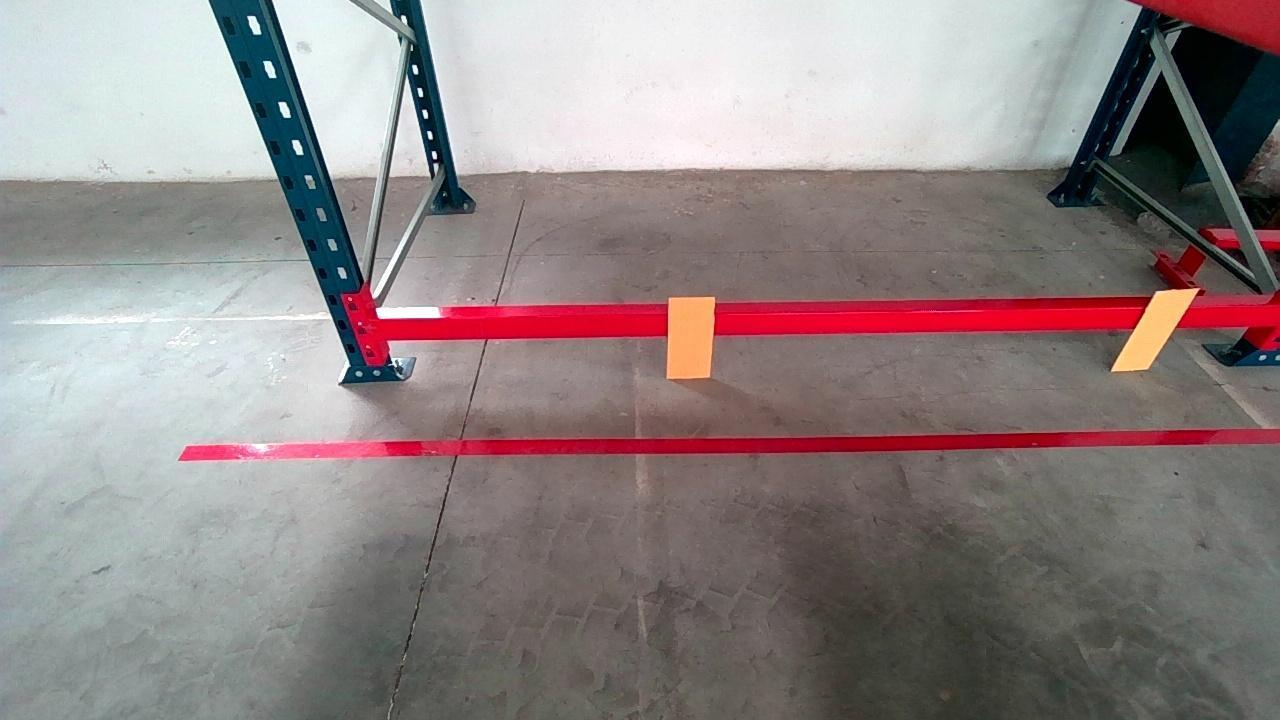h_rack: (371, 308, 1279, 340)
orange_strip: (1113, 290, 1197, 369), (668, 296, 716, 378)
red_line: (178, 425, 1280, 458)
